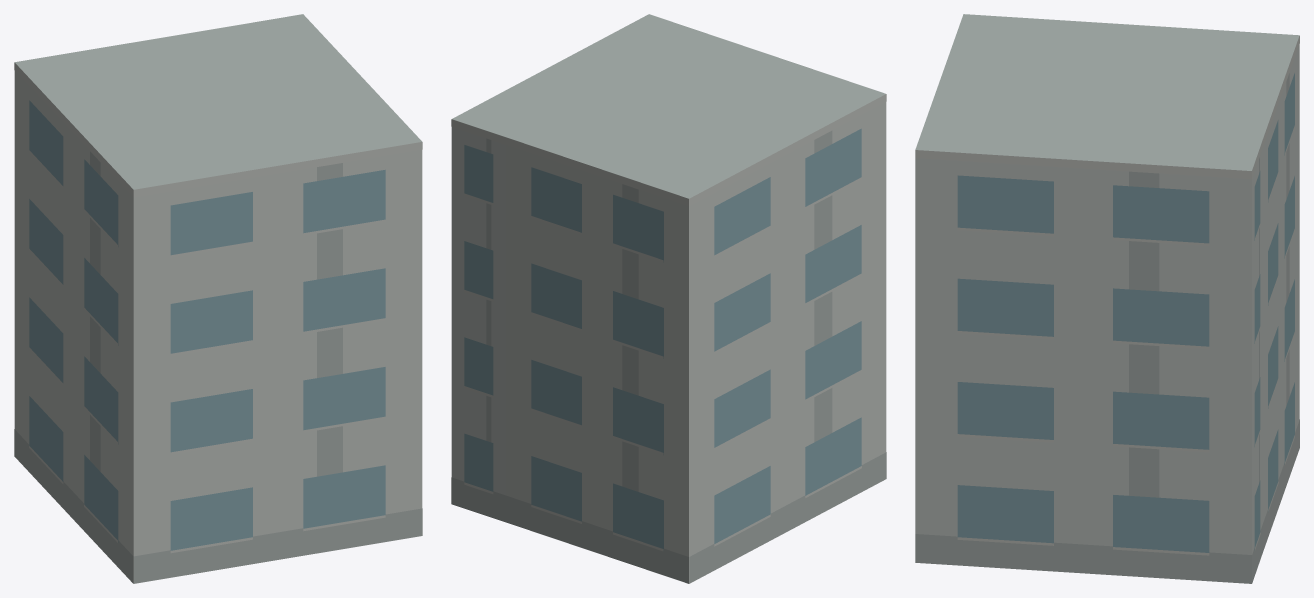
File: residential-1795a144-7211-479c-b31e-0e8d8bd90825.glb
3 renders of one model, left to right at view 1: azimuth 30°, elevation 25°; view 2: azimuth 150°, elevation 25°; view 3: azimuth 270°, elevation 25°, orthographic. The views are drawn at different scales.
Parts seen in each view (by area): view 1: residential-1795a144-7211-479c-b31e-0e8d8bd90825.tmp; view 2: residential-1795a144-7211-479c-b31e-0e8d8bd90825.tmp; view 3: residential-1795a144-7211-479c-b31e-0e8d8bd90825.tmp.
Part boxes in pixels (x1,y1,x2,y2): residential-1795a144-7211-479c-b31e-0e8d8bd90825.tmp: (14,14,422,583); residential-1795a144-7211-479c-b31e-0e8d8bd90825.tmp: (451,14,886,583); residential-1795a144-7211-479c-b31e-0e8d8bd90825.tmp: (915,14,1299,583).
Size of the model in its own units: 9.97 by 12.2 by 10.31.
